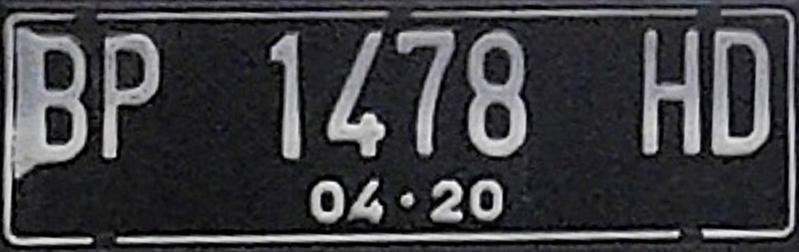1: (262, 27, 312, 168)
4: (314, 29, 390, 165)
7: (391, 29, 460, 164)
8: (460, 26, 533, 164)
B: (24, 28, 90, 168)
D: (707, 25, 776, 162)
H: (634, 24, 706, 160)
P: (91, 28, 164, 166)
